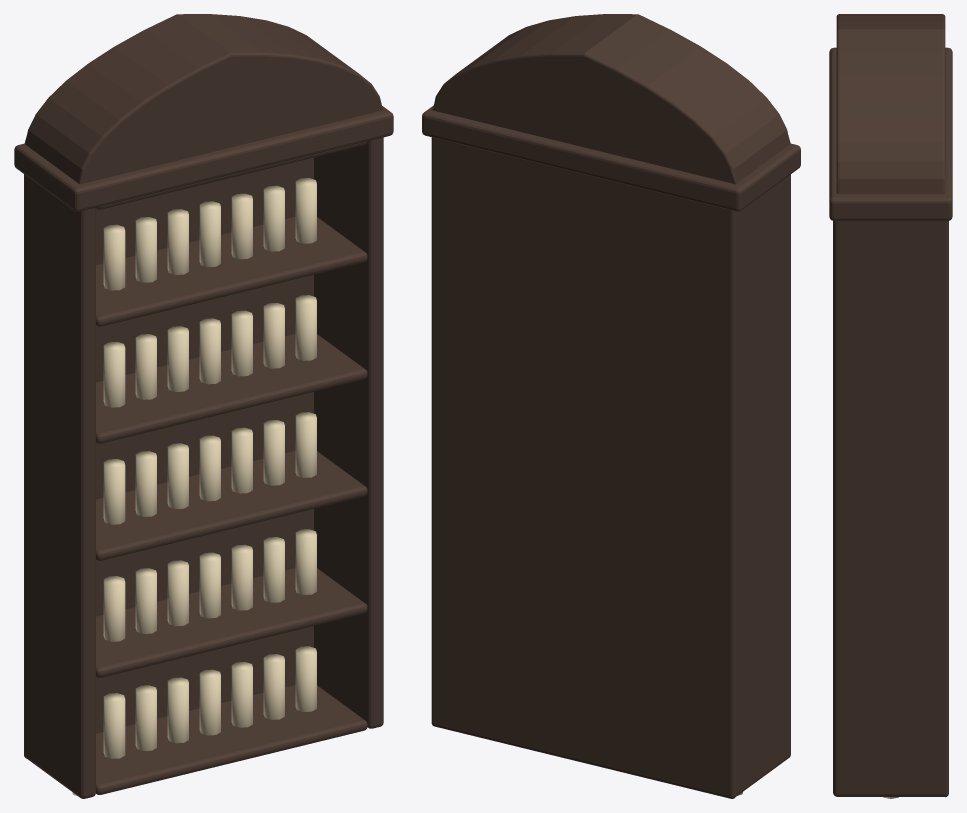
File: bookshelf_scroll_rack.glb
3 renders of one model, left to right at view 1: azimuth 30°, elevation 25°; view 2: azimuth 150°, elevation 25°; view 3: azimuth 270°, elevation 25°, orthographic.
Visible parts, largest first — view 1: GD_bookshelf_scroll_rack__m0, GD_bookshelf_scroll_rack__m1; view 2: GD_bookshelf_scroll_rack__m0; view 3: GD_bookshelf_scroll_rack__m0.
Part boxes in pixels (x1=…): GD_bookshelf_scroll_rack__m0: x1=14, y1=14, x2=393, y2=798; GD_bookshelf_scroll_rack__m1: x1=72, y1=178, x2=316, y2=795; GD_bookshelf_scroll_rack__m0: x1=422, y1=14, x2=800, y2=798; GD_bookshelf_scroll_rack__m0: x1=829, y1=14, x2=952, y2=797.
Bounding box in the file's own units: 1 × 2.18 × 0.34.
